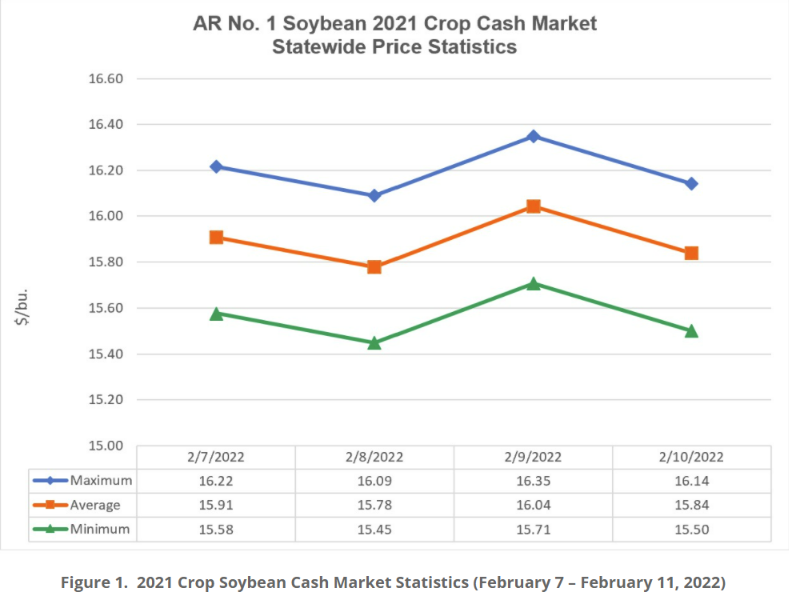S1_AxisNotZero: (5, 12, 789, 606)
